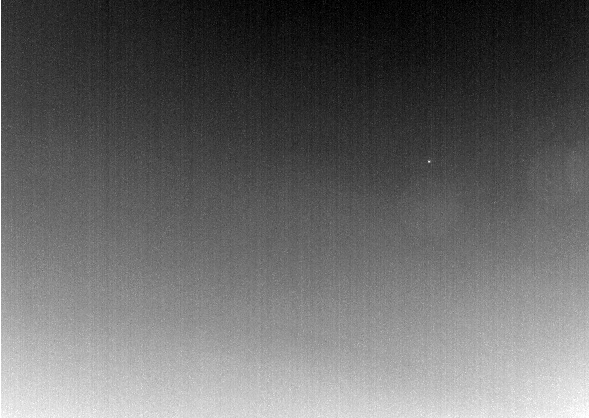dim target: (427, 159, 431, 164)
